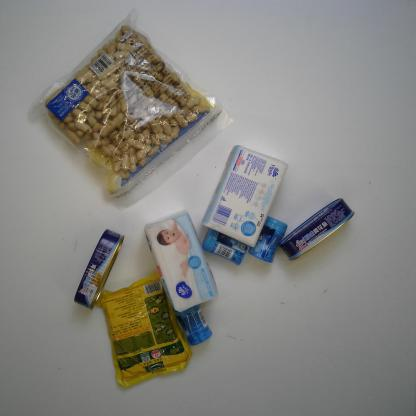Canned Food: (279, 197, 355, 261), (73, 228, 125, 310)
Dried Food: (27, 9, 235, 210)
Gum: (201, 227, 251, 266), (248, 215, 287, 263), (172, 301, 212, 347)
Seasoner: (97, 272, 192, 388)
Tissue: (200, 144, 288, 248), (144, 212, 218, 313)
